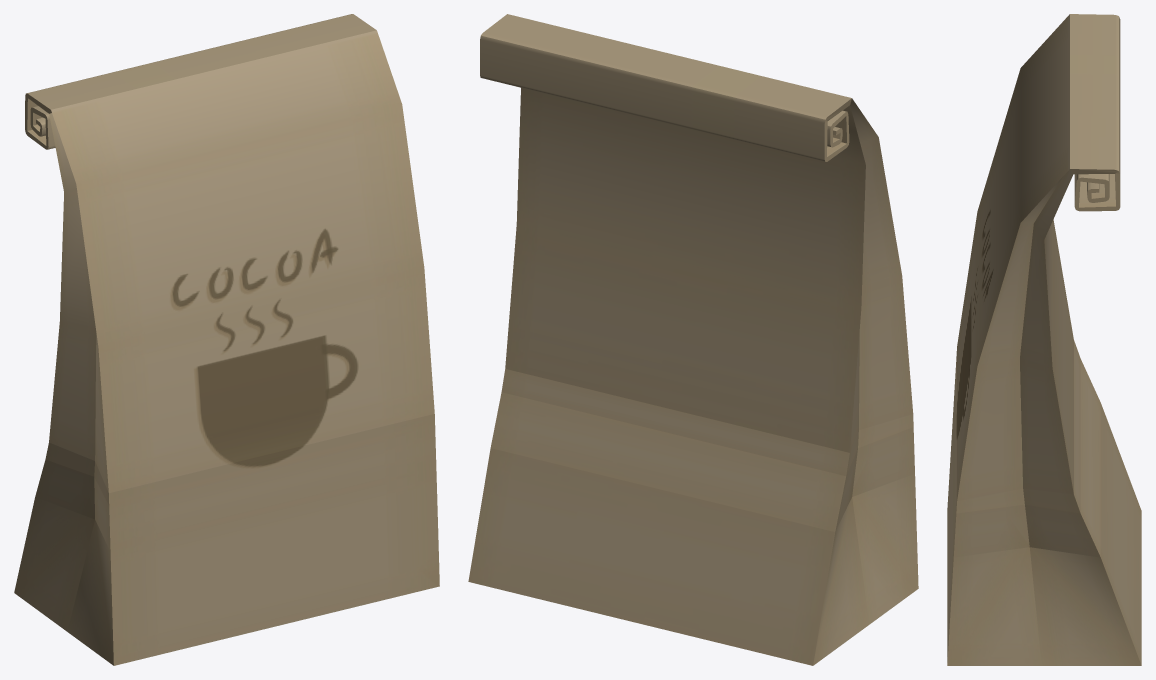
File: paperbag.fbx
3 renders of one model, left to right at view 1: azimuth 30°, elevation 25°; view 2: azimuth 150°, elevation 25°; view 3: azimuth 270°, elevation 25°, orthographic. The views are drawn at different scales.
Visible parts, largest first — view 1: paper; view 2: paper; view 3: paper.
Boxes of the visible parts, x1,y1,x2,y2 form: paper: (14, 14, 439, 665); paper: (468, 14, 918, 665); paper: (947, 14, 1141, 665).
Bounding box in the file's own units: 0.00731 × 0.0109 × 0.00387.
Materials: 1 (1 with a texture image).
